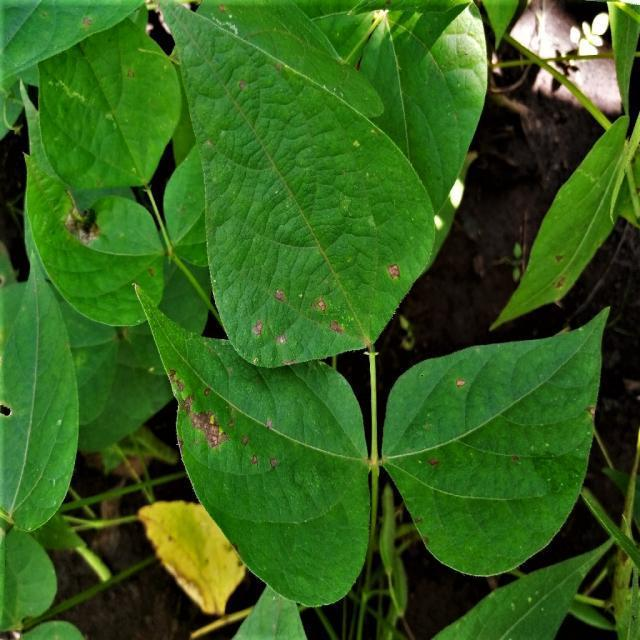hawar: (138, 344, 250, 474), (236, 283, 353, 348), (236, 430, 292, 482), (60, 200, 108, 253), (395, 443, 446, 480), (384, 231, 407, 287), (440, 367, 482, 397)
sehat: (189, 48, 349, 211), (465, 420, 558, 511), (245, 509, 342, 584)
